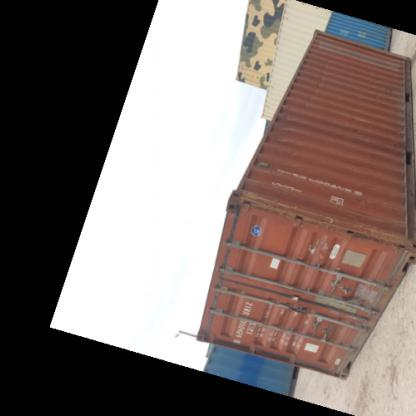Damage: (341, 219, 406, 252), (314, 279, 374, 313), (239, 188, 291, 223), (305, 50, 325, 104), (274, 108, 294, 148), (302, 236, 326, 264), (370, 79, 398, 98), (344, 122, 362, 138)
